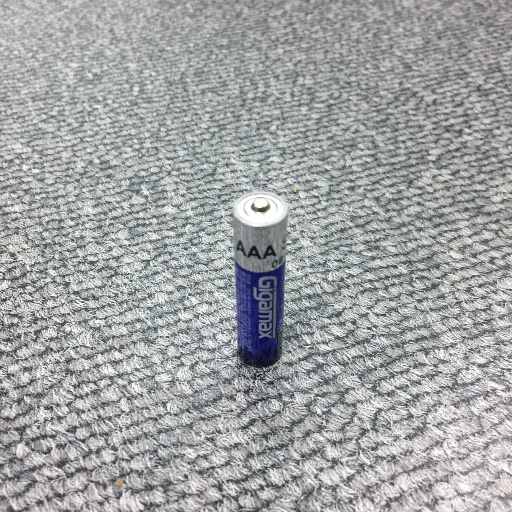Battery_0: (226, 184, 299, 375)
